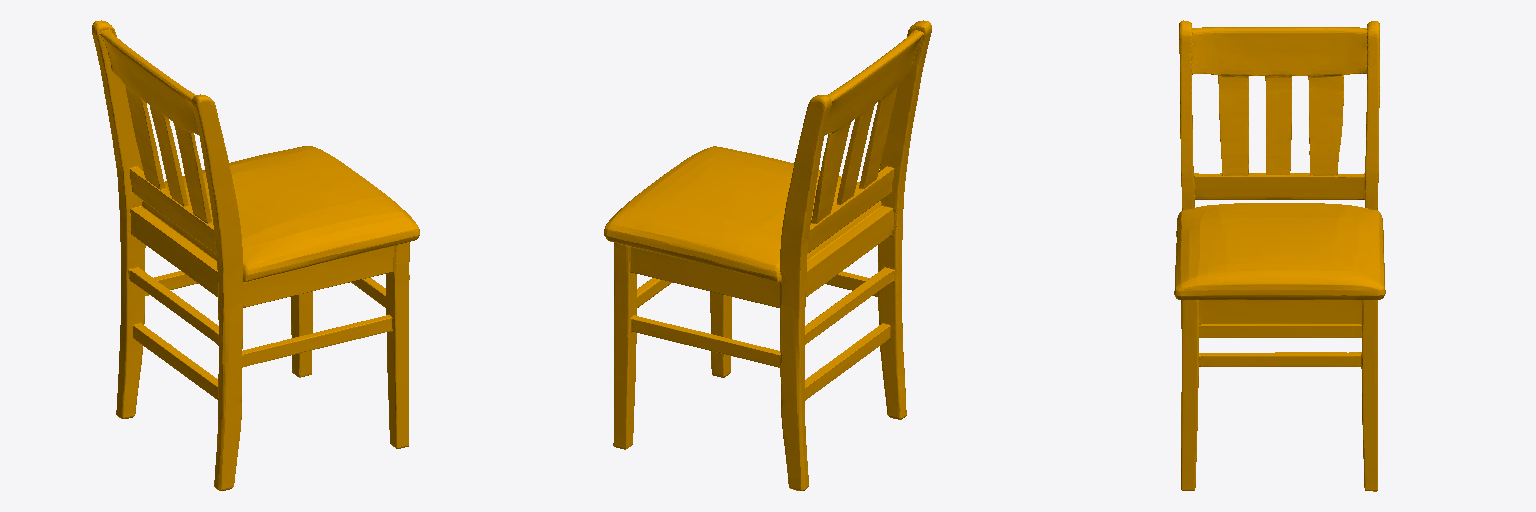
robot.urdf — dining_chair_0:
<?xml version="1.0" ?>
<robot name="dining_chair_0">
   <link name="dining_chair_0">
      <visual>
         <origin xyz="0 0 0" rpy="1.5708 0.0 0.0"/>
         <geometry>
            <mesh filename="mesh/dining_chair_0.obj" scale="1.0 1.0 1.0"/>
         </geometry>
      </visual>
      <collision>
         <origin xyz="0 0 0" rpy="1.5708 0.0 0.0"/>
         <geometry>
            <mesh filename="mesh/dining_chair_0_collision.obj" scale="1.0 1.0 1.0"/>
         </geometry>
         <gazebo>
            <mu1>0.70</mu1>
            <mu2>0.60</mu2>
         </gazebo>
      </collision>
      <inertial>
         <mass value="5.5000"/>
         <origin xyz="0 0 0"/>
         <inertia ixx="1.0" ixy="0.0" ixz="0.0" iyy="1.0" iyz="0.0" izz="1.0"/>
      </inertial>
      <extra_info>
         <scale>0.925000</scale>
         <version>v0.1.5</version>
         <category>dining_chair</category>
         <description>wooden dining chair with cushioned seat and vertical slatted backrest</description>
         <min_height>0.85</min_height>
         <max_height>1.0</max_height>
         <real_height>0.925</real_height>
         <min_mass>4.5</min_mass>
         <max_mass>6.5</max_mass>
         <generate_time>20251021105305</generate_time>
         <gs_model>mesh/dining_chair_0_gs.ply</gs_model>
      </extra_info>
   </link>
   <custom_data>
      <quality>
         <MeshGeoChecker>YES</MeshGeoChecker>
         <ImageSegChecker>YES</ImageSegChecker>
         <ImageAestheticChecker>4.675519585609436</ImageAestheticChecker>
         <overall>YES</overall>
      </quality>
   </custom_data>
</robot>

--- Render facts (derived) ---
Views: 3 orthographic renders of the robot side by side, from view 1: azimuth 30°, elevation 25°; view 2: azimuth 150°, elevation 25°; view 3: azimuth 270°, elevation 25°.
Robot: dining_chair_0 — 1 links, 0 joints (none); root link dining_chair_0; default pose: every joint at zero.
Visible links, largest first — view 1: dining_chair_0; view 2: dining_chair_0; view 3: dining_chair_0.
Link boxes in pixels (left/top/right/bottom): dining_chair_0: left=92, top=20, right=419, bottom=490; dining_chair_0: left=604, top=20, right=931, bottom=490; dining_chair_0: left=1174, top=20, right=1385, bottom=491.
Size in the robot's own frame: 0.5402 by 0.4723 by 0.925 metres.
1 mesh visuals loaded from 1 distinct referenced files (1 OBJ).
